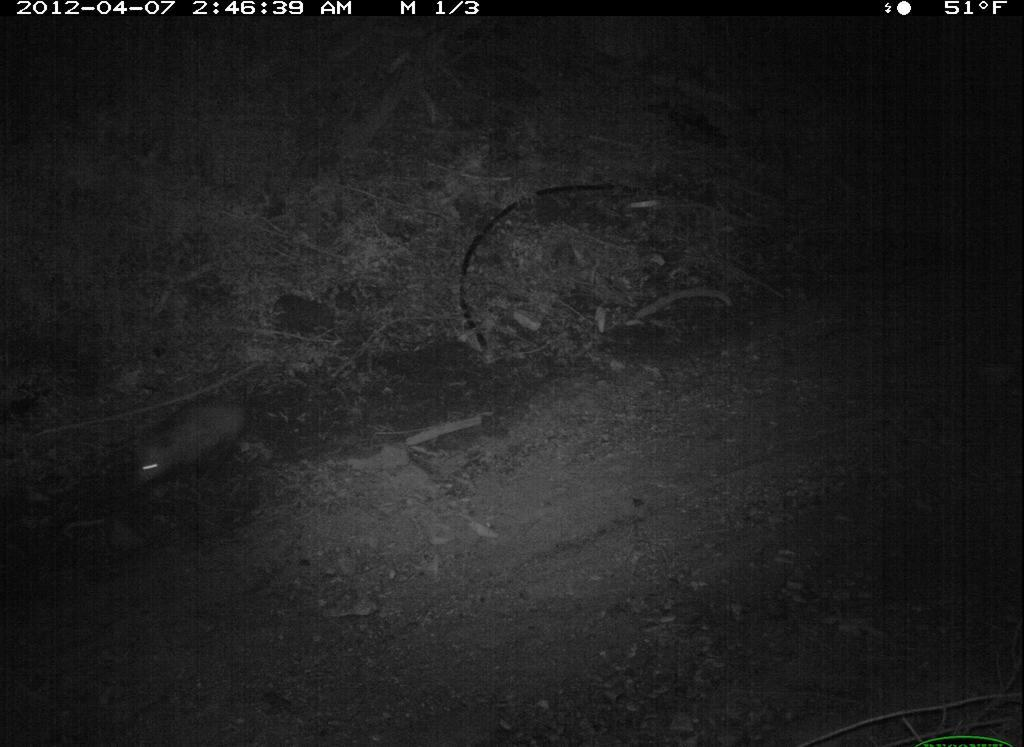opossum: (113, 367, 337, 486)
